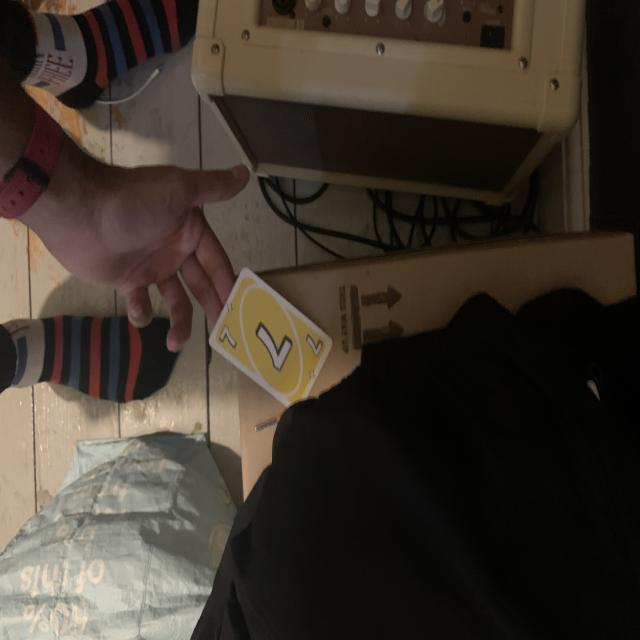lyellow-7: (215, 323, 240, 352)
